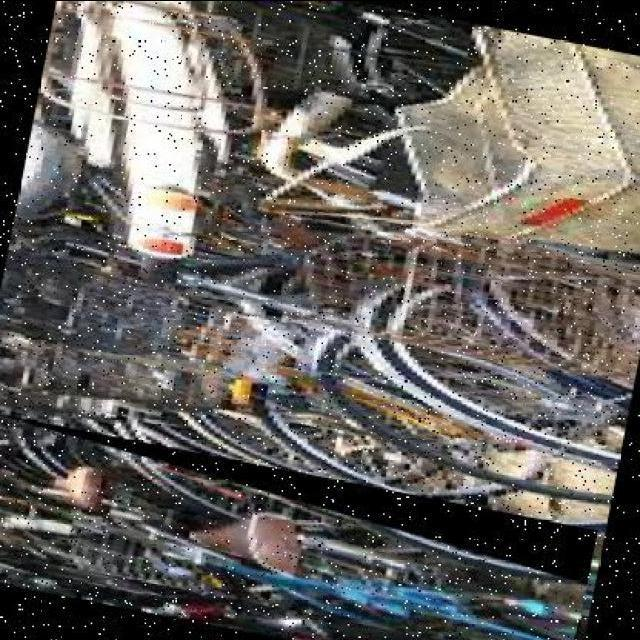bicycle: (1, 412, 601, 640)
